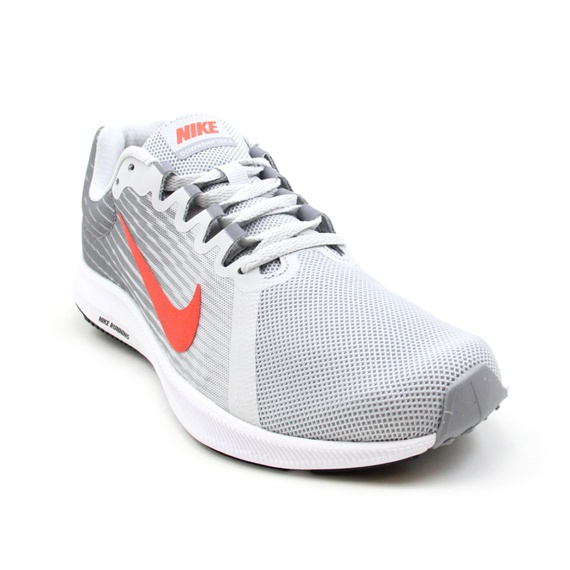nike: (112, 210, 206, 359)
